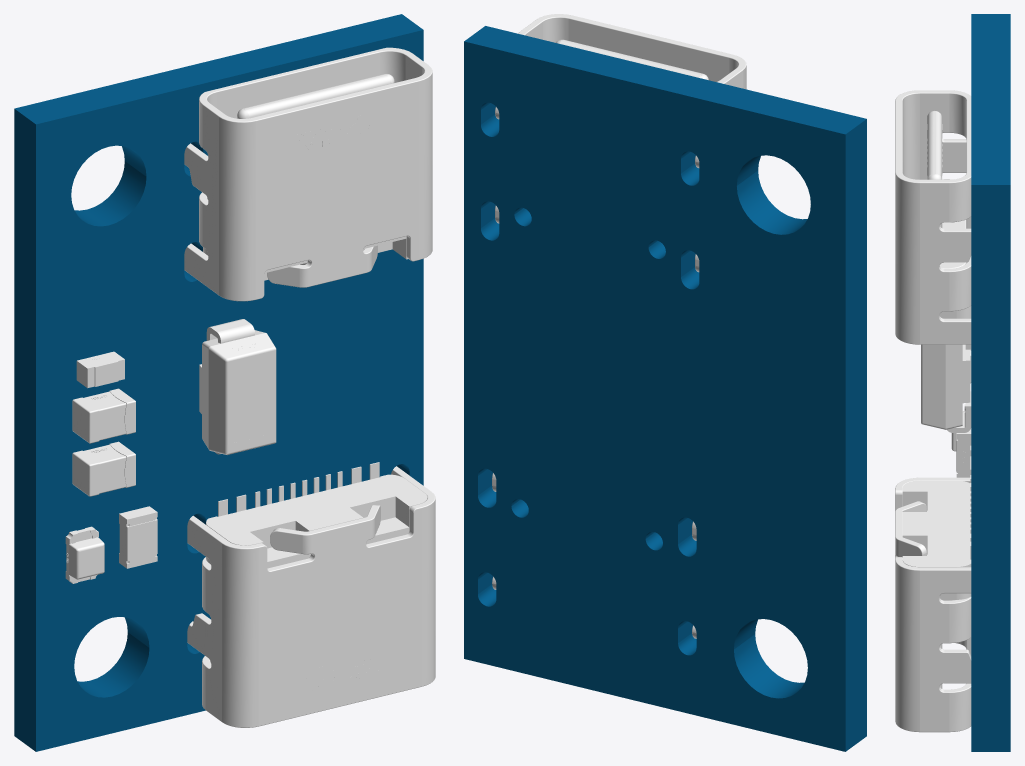
Rendered from USB-C Extender_0.gltf.
3 renders of one model, left to right at view 1: azimuth 30°, elevation 25°; view 2: azimuth 150°, elevation 25°; view 3: azimuth 270°, elevation 25°, orthographic. The views are drawn at different scales.
Visible parts, largest first — view 1: Board_node, nodes[50], nodes[35], nodes[12], SOLID_node, SOLID, nodes[27], nodes[9], nodes[8]; view 2: Board_node, nodes[35]; view 3: Board_node, nodes[50], nodes[35], nodes[12], nodes[10].
Boxes of the visible parts, x1=… form: Board_node: x1=14, y1=14, x2=423, y2=751; nodes[50]: x1=187, y1=462, x2=435, y2=727; nodes[35]: x1=184, y1=47, x2=432, y2=301; nodes[12]: x1=199, y1=319, x2=276, y2=454; SOLID_node: x1=72, y1=388, x2=135, y2=443; SOLID: x1=72, y1=441, x2=135, y2=496; nodes[27]: x1=69, y1=537, x2=104, y2=579; nodes[9]: x1=126, y1=519, x2=157, y2=561; nodes[8]: x1=119, y1=506, x2=157, y2=568; Board_node: x1=464, y1=26, x2=866, y2=751; nodes[35]: x1=495, y1=14, x2=746, y2=272; Board_node: x1=971, y1=14, x2=1010, y2=751; nodes[50]: x1=895, y1=475, x2=971, y2=732; nodes[35]: x1=895, y1=90, x2=971, y2=347; nodes[12]: x1=921, y1=344, x2=971, y2=432; nodes[10]: x1=958, y1=435, x2=970, y2=477.
Size of the model in its own units: 16.48 by 25.5 by 4.7.
